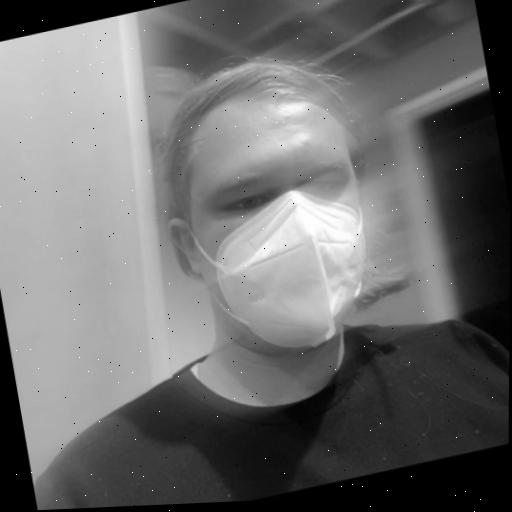mask: (98, 7, 435, 462)
